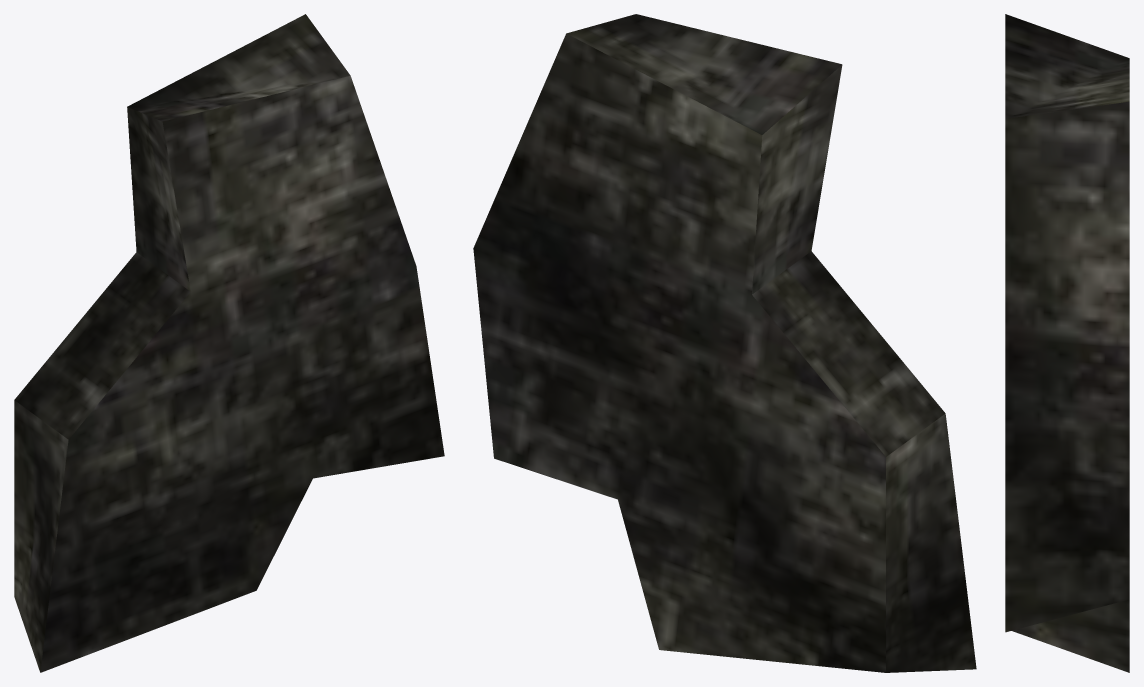
Rendered from OC_LOB_STONEBROKEN.glb.
The picture shows the model from 3 angles, left to right: view 1: azimuth 30°, elevation 25°; view 2: azimuth 150°, elevation 25°; view 3: azimuth 270°, elevation 25°; orthographic projection. The views are drawn at different scales.
Parts seen in each view (by area): view 1: Mesh; view 2: Mesh; view 3: Mesh.
Part boxes in pixels (x1,y1,x2,y2): Mesh: (14,14,444,672); Mesh: (473,14,976,672); Mesh: (1005,14,1129,672).
Size of the model in its own units: 2.15 by 2.75 by 0.5.
Materials: 1 (1 with a texture image).
